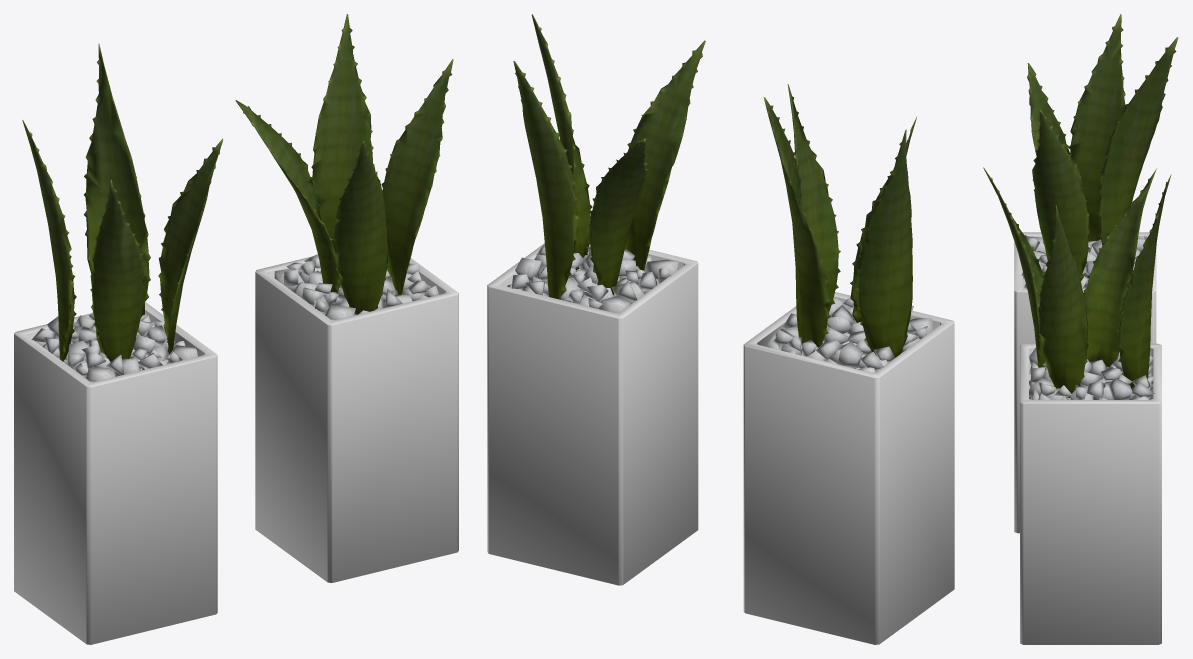
File: plant-aloe-double.glb
3 renders of one model, left to right at view 1: azimuth 30°, elevation 25°; view 2: azimuth 150°, elevation 25°; view 3: azimuth 270°, elevation 25°, orthographic. The views are drawn at different scales.
Visible parts, largest first — view 1: plant-aloe-double; view 2: plant-aloe-double; view 3: plant-aloe-double.
Boxes of the visible parts, x1,y1,x2,y2 form: plant-aloe-double: (14,14,458,644); plant-aloe-double: (487,14,954,644); plant-aloe-double: (983,14,1178,644).
Size of the model in its own units: 0.5001 by 0.62 by 0.2278.
Materials: 3 (2 with a texture image).
